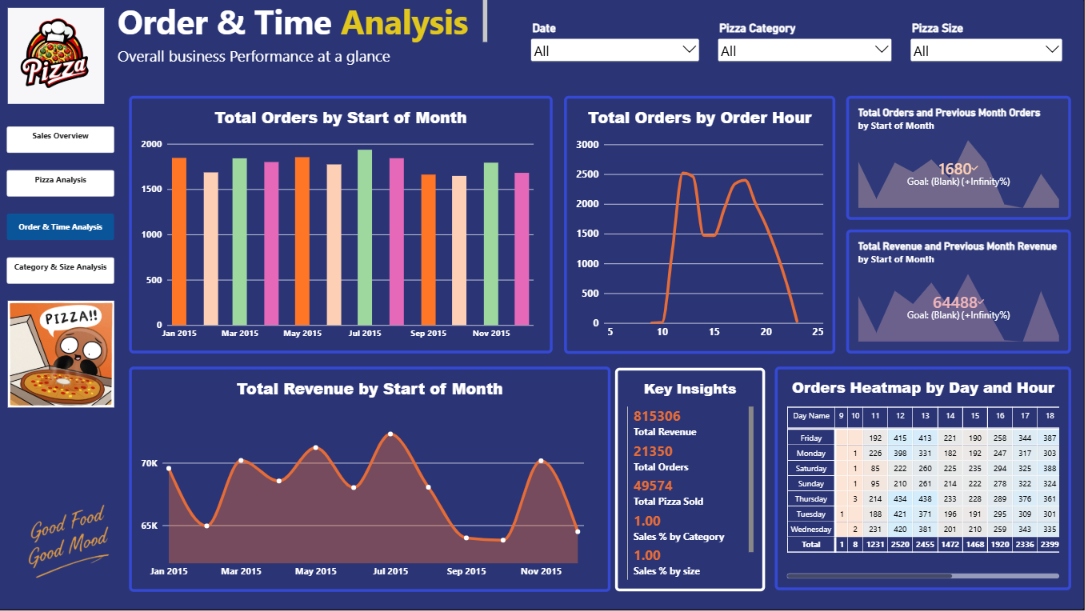

Layout of this report page (visuals, bound fields, positions):
{"tool":"powerbi","page":{"name":"Order & Time Analysis","canvas":[1920,1080],"ordinal":2},"visuals":[{"type":"image","box":[18.8,15.1,170,170.8],"z":0},{"type":"textbox","box":[212.5,0,652.5,77.5],"z":1000},{"type":"textbox","box":[212.4,82.4,512.9,38.8],"z":2000},{"type":"columnChart","fields":{"Category":["Dim_Date.Year Hierarchy.Year","Dim_Date.Year Hierarchy.Start of Quarter","Dim_Date.Year Hierarchy.Start of Month","Dim_Date.Year Hierarchy.Start of Week","Dim_Date.Year Hierarchy.Day Name","Dim_Date.Year Hierarchy.Month Name"],"Y":["Measure.Total Orders"]},"box":[232.5,172.5,747.5,455],"z":3000},{"type":"lineChart","fields":{"Category":["Fact_sales.Order Hour"],"Y":["Measure.Total Orders"]},"box":[1000,172.3,478.7,455.3],"z":4000},{"type":"areaChart","fields":{"Category":["Dim_Date.Year Hierarchy.Year","Dim_Date.Year Hierarchy.Start of Quarter","Dim_Date.Year Hierarchy.Start of Month","Dim_Date.Year Hierarchy.Start of Week","Dim_Date.Year Hierarchy.Day Name","Dim_Date.Year Hierarchy.Month Name"],"Y":["Measure.Total Revenue"]},"box":[232.5,650,850,397.5],"z":5000},{"type":"kpi","fields":{"Goal":["Measure.Previous Month Orders"],"Indicator":["Measure.Total Orders"],"TrendLine":["Dim_Date.Start of Month"]},"box":[1498,172,397,219],"z":6000},{"type":"kpi","fields":{"Goal":["Measure.Previous Month Revenue"],"Indicator":["Measure.Total Revenue"],"TrendLine":["Dim_Date.Start of Month"]},"box":[1498,408,397,219],"z":7000},{"type":"slicer","fields":{"Values":["Dim_Pizza.pizza_size"]},"box":[1606.7,26.7,278.8,103.8],"z":8000},{"type":"slicer","fields":{"Values":["Dim_Pizza.pizza_category"]},"box":[1266.7,26.7,317.5,120],"z":9000},{"type":"slicer","fields":{"Values":["Dim_Date.Year Hierarchy.Year","Dim_Date.Year Hierarchy.Start of Quarter","Dim_Date.Year Hierarchy.Start of Month","Dim_Date.Year Hierarchy.Start of Week","Dim_Date.Year Hierarchy.Day Name","Dim_Date.Year Hierarchy.Month Name"]},"box":[936.7,26.7,307.8,92.2],"z":10000},{"type":"multiRowCard","title":"Key Insights","fields":{"Values":["Measure.Total Revenue","Measure.Total Orders","Measure.Total Pizza Sold","Measure.Sales % by Category","Measure.Sales % by size","Measure.Avg Orders Value"]},"box":[1090,652.5,265,395],"z":11000},{"type":"pageNavigator","box":[15,225,190,280],"z":12000},{"type":"pivotTable","title":"Orders Heatmap by Day and Hour","fields":{"Columns":["Fact_sales.Order Hour"],"Rows":["Dim_Date.Day Name"],"Values":["Measure.Total Orders"]},"box":[1371.7,650,523.3,395],"z":13000},{"type":"image","box":[0,846,236,234],"z":14000},{"type":"image","box":[18,528,188,200],"z":15000}]}

Visuals, with their boxes in screenshot pixels (x1, y1, x2, y2), scaled from the page's 1920x1080 canvas onto the 1085x611 screenshot:
image: left=11, top=9, right=107, bottom=105
textbox: left=120, top=0, right=489, bottom=44
textbox: left=120, top=47, right=410, bottom=69
columnChart - Dim_Date.Year Hierarchy.Year x Dim_Date.Year Hierarchy.Start of Quarter: left=131, top=98, right=554, bottom=355
lineChart - Fact_sales.Order Hour x Measure.Total Orders: left=565, top=97, right=836, bottom=355
areaChart - Dim_Date.Year Hierarchy.Year x Dim_Date.Year Hierarchy.Start of Quarter: left=131, top=368, right=612, bottom=593
kpi - Measure.Previous Month Orders x Measure.Total Orders: left=847, top=97, right=1071, bottom=221
kpi - Measure.Previous Month Revenue x Measure.Total Revenue: left=847, top=231, right=1071, bottom=355
slicer - Dim_Pizza.pizza_size: left=908, top=15, right=1066, bottom=74
slicer - Dim_Pizza.pizza_category: left=716, top=15, right=895, bottom=83
slicer - Dim_Date.Year Hierarchy.Year x Dim_Date.Year Hierarchy.Start of Quarter: left=529, top=15, right=703, bottom=67
"Key Insights" multiRowCard: left=616, top=369, right=766, bottom=593
pageNavigator: left=8, top=127, right=116, bottom=286
"Orders Heatmap by Day and Hour" pivotTable: left=775, top=368, right=1071, bottom=591
image: left=0, top=479, right=133, bottom=610
image: left=10, top=299, right=116, bottom=412
